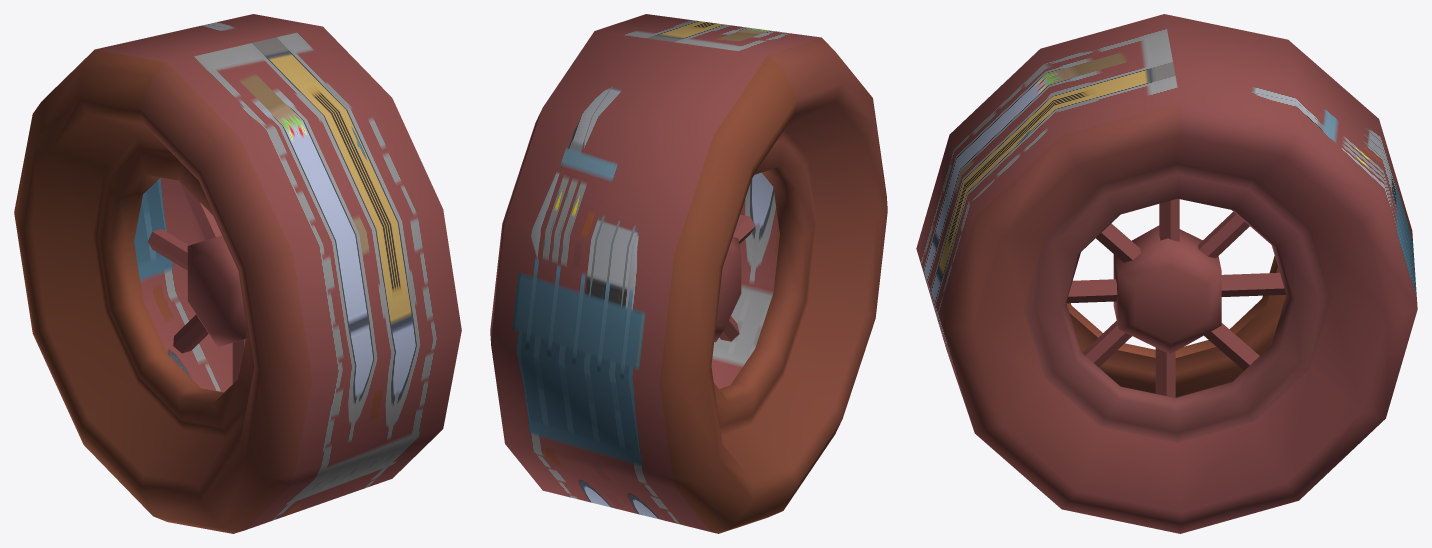
The model's file is SM_Wheel.fbx.
3 renders of one model, left to right at view 1: azimuth 30°, elevation 25°; view 2: azimuth 150°, elevation 25°; view 3: azimuth 270°, elevation 25°, orthographic. The views are drawn at different scales.
Parts seen in each view (by area): view 1: SM_Scooter.001; view 2: SM_Scooter.001; view 3: SM_Scooter.001.
Part boxes in pixels (box(x1,y1,x2,y2)): SM_Scooter.001: box(14, 14, 461, 533); SM_Scooter.001: box(490, 14, 887, 533); SM_Scooter.001: box(916, 14, 1417, 533).
Bounding box in the file's own units: 49.44 × 91.52 × 92.17.
